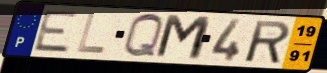4: (208, 18, 244, 64)
E: (31, 9, 81, 55)
L: (75, 11, 108, 55)
M: (152, 13, 215, 63)
Q: (122, 12, 166, 60)
R: (244, 19, 292, 66)
